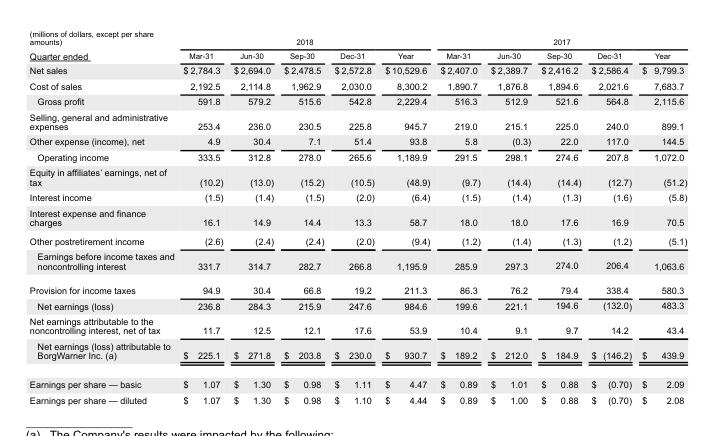table: (28, 29, 686, 404)
table column: (28, 29, 178, 404), (378, 29, 434, 404), (227, 29, 278, 404), (484, 29, 535, 404), (585, 29, 636, 404), (278, 29, 328, 404), (328, 29, 378, 404), (434, 29, 484, 404), (535, 29, 585, 404), (636, 29, 686, 404), (178, 29, 227, 404)
table column header: (28, 29, 686, 62)
table row: (28, 337, 686, 369), (28, 248, 686, 277), (28, 204, 686, 231), (28, 164, 686, 189), (28, 109, 686, 133), (28, 313, 686, 337), (28, 369, 686, 391), (28, 277, 686, 297), (28, 29, 686, 48), (28, 231, 686, 248), (28, 62, 686, 78), (28, 93, 686, 109), (28, 133, 686, 149), (28, 297, 686, 313), (28, 78, 686, 93), (28, 149, 686, 164), (28, 189, 686, 204), (28, 48, 686, 62), (28, 391, 686, 404)
table spanning cell: (28, 29, 178, 62), (178, 29, 434, 48), (434, 29, 686, 48)
